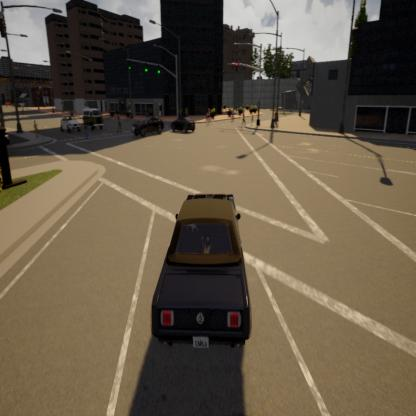Cars: (150, 187, 254, 342), (134, 110, 164, 140), (173, 116, 196, 142), (59, 114, 81, 136), (85, 106, 103, 130)
Pedestrian: (81, 116, 91, 142), (274, 106, 282, 133), (115, 107, 122, 134), (242, 104, 248, 132)
